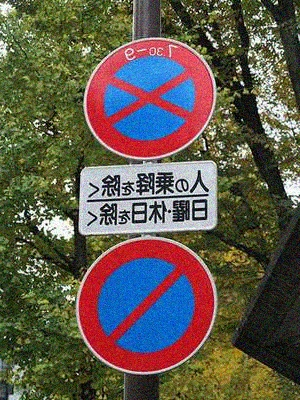Prohibition_sign: (68, 241, 238, 392), (71, 34, 221, 155), (232, 159, 235, 164)
